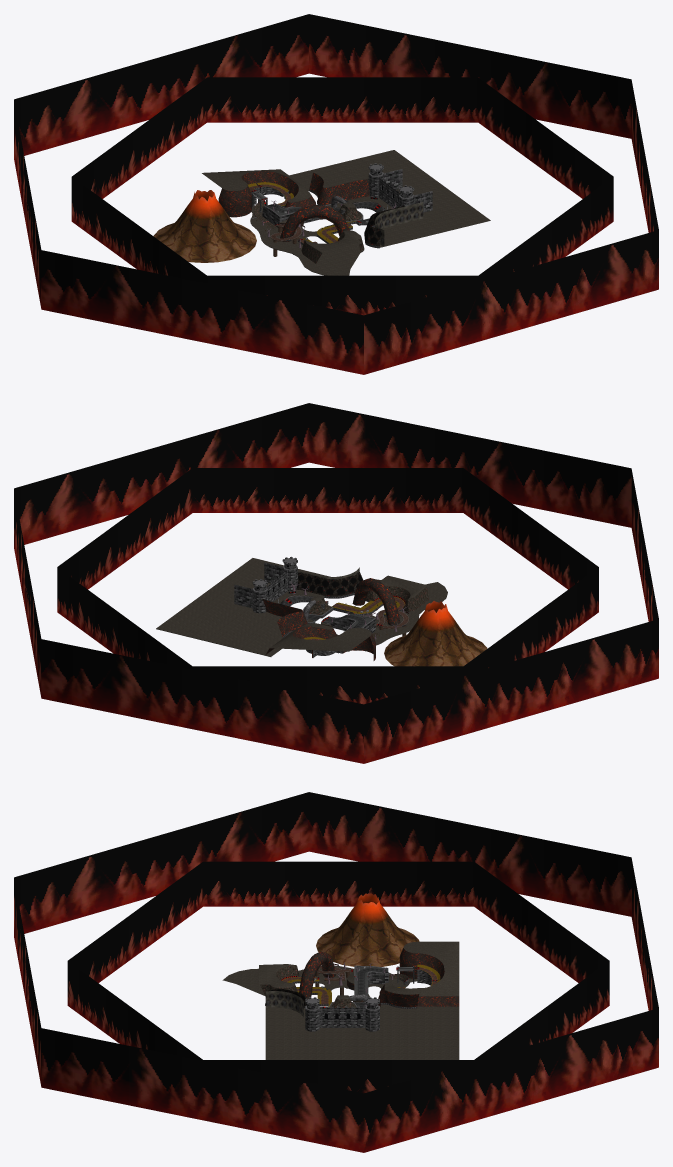
The picture shows the model from 3 angles, top to bottom: view 1: azimuth 30°, elevation 25°; view 2: azimuth 150°, elevation 25°; view 3: azimuth 270°, elevation 25°; orthographic projection.
Parts seen in each view (by area): view 1: polygon27.003, polygon20.009, polygon2.021, polygon1.026, polygon12.020, polygon3.024, polygon5.020; view 2: polygon27.003, polygon20.009, polygon2.021, polygon1.026, polygon12.020, polygon4.023, polygon5.020; view 3: polygon27.003, polygon20.009, polygon2.021, polygon1.026, polygon12.020, polygon5.020, polygon3.024.
Boxes of the visible parts, x1,y1,x2,y2 form: polygon27.003: (14, 14, 658, 374); polygon20.009: (202, 150, 490, 275); polygon2.021: (153, 190, 256, 262); polygon1.026: (218, 171, 370, 241); polygon12.020: (251, 164, 432, 227); polygon3.024: (375, 202, 423, 246); polygon5.020: (254, 200, 364, 263); polygon27.003: (14, 403, 658, 763); polygon20.009: (156, 558, 447, 656); polygon2.021: (384, 601, 487, 666); polygon1.026: (262, 578, 400, 660); polygon12.020: (234, 557, 375, 657); polygon4.023: (296, 570, 363, 596); polygon5.020: (309, 586, 428, 637); polygon27.003: (14, 792, 658, 1152); polygon20.009: (222, 941, 459, 1059); polygon2.021: (316, 893, 419, 966); polygon1.026: (299, 948, 459, 1007); polygon12.020: (305, 969, 440, 1031); polygon5.020: (260, 965, 408, 1007); polygon3.024: (265, 991, 303, 1017).
Size of what is drawn, in the model's own units: 429646 by 50552 by 388614.
Materials: 30 (30 with a texture image).
